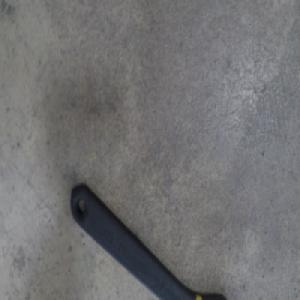AdjustableWrench: (70, 183, 227, 300)
